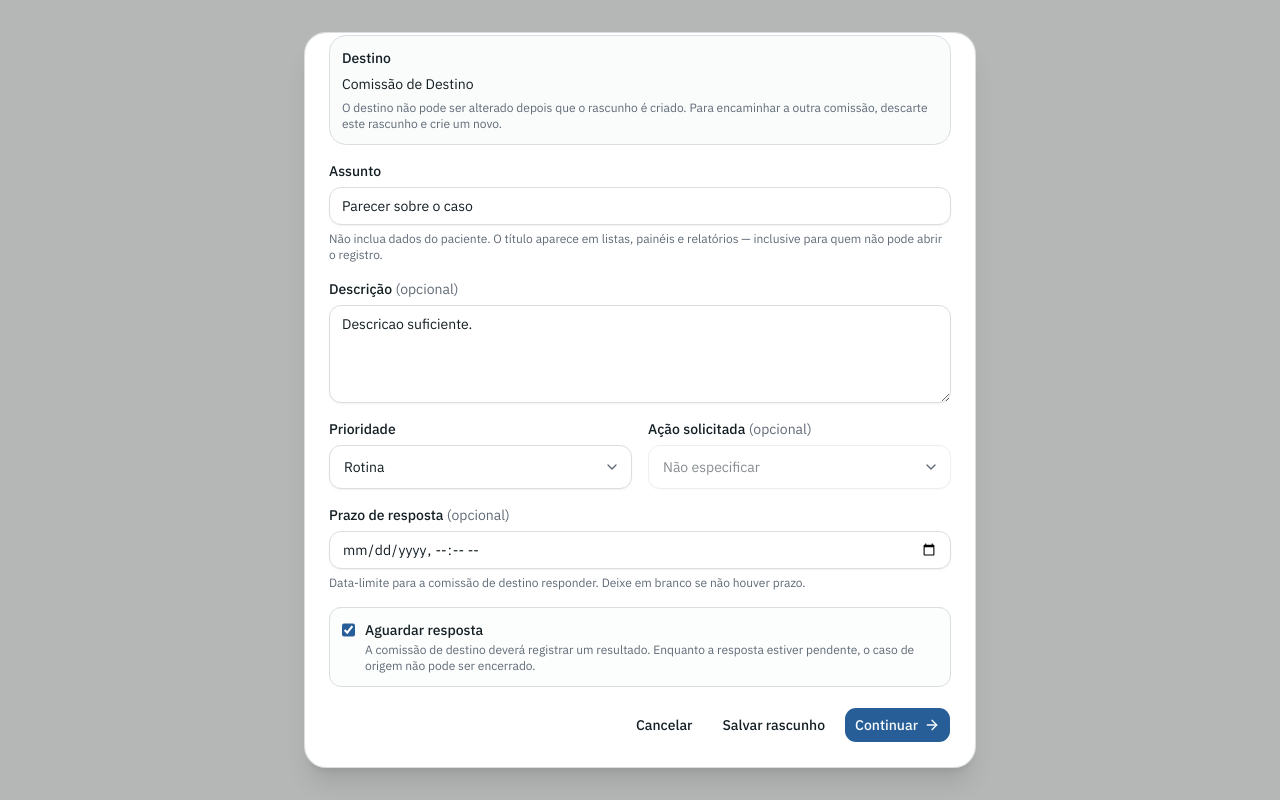
Scenario: referral wizard — the review step's advance MRN warning › 3 stays silent on a RESUMED draft whose prefill read FAILED
(page scrolled)
Click the button "Continuar": coordinates (898, 725) 844,707 -> 951,743
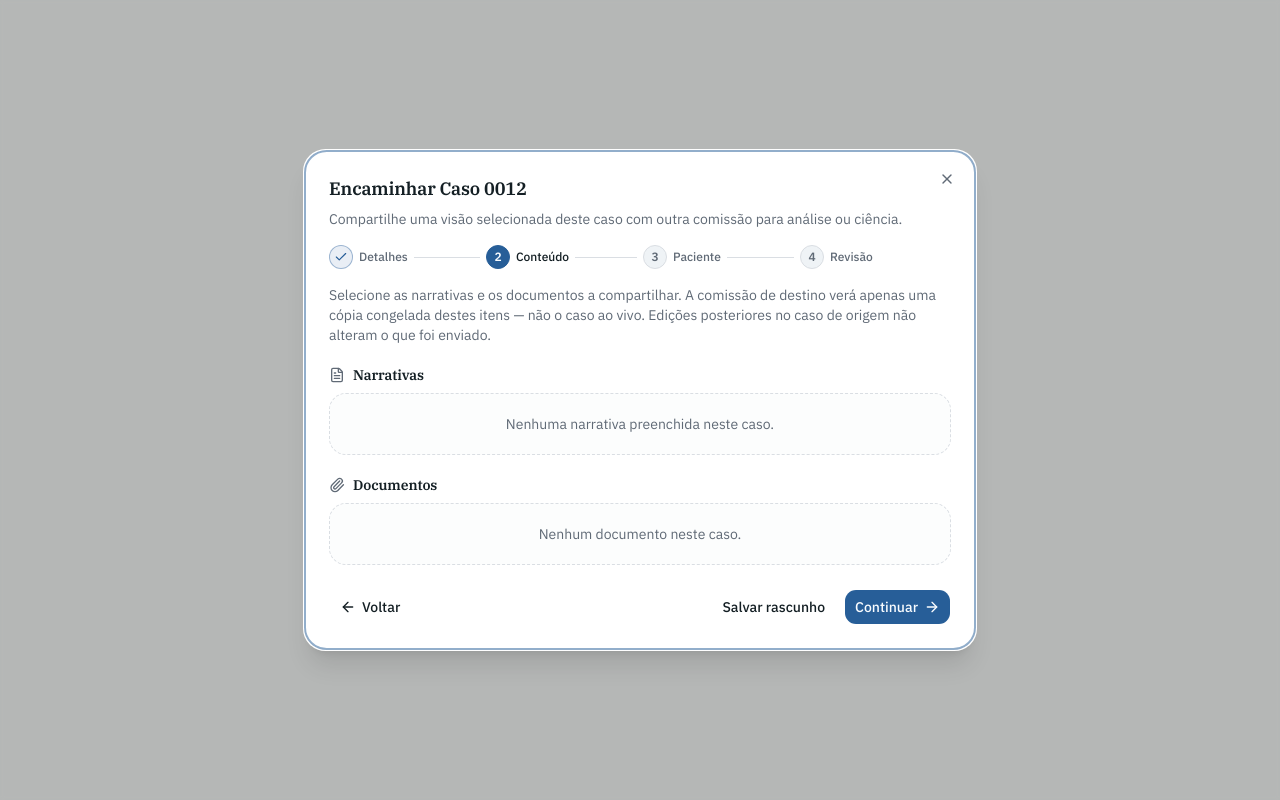
Click the button "Continuar": coordinates (898, 607) 844,589 -> 951,625
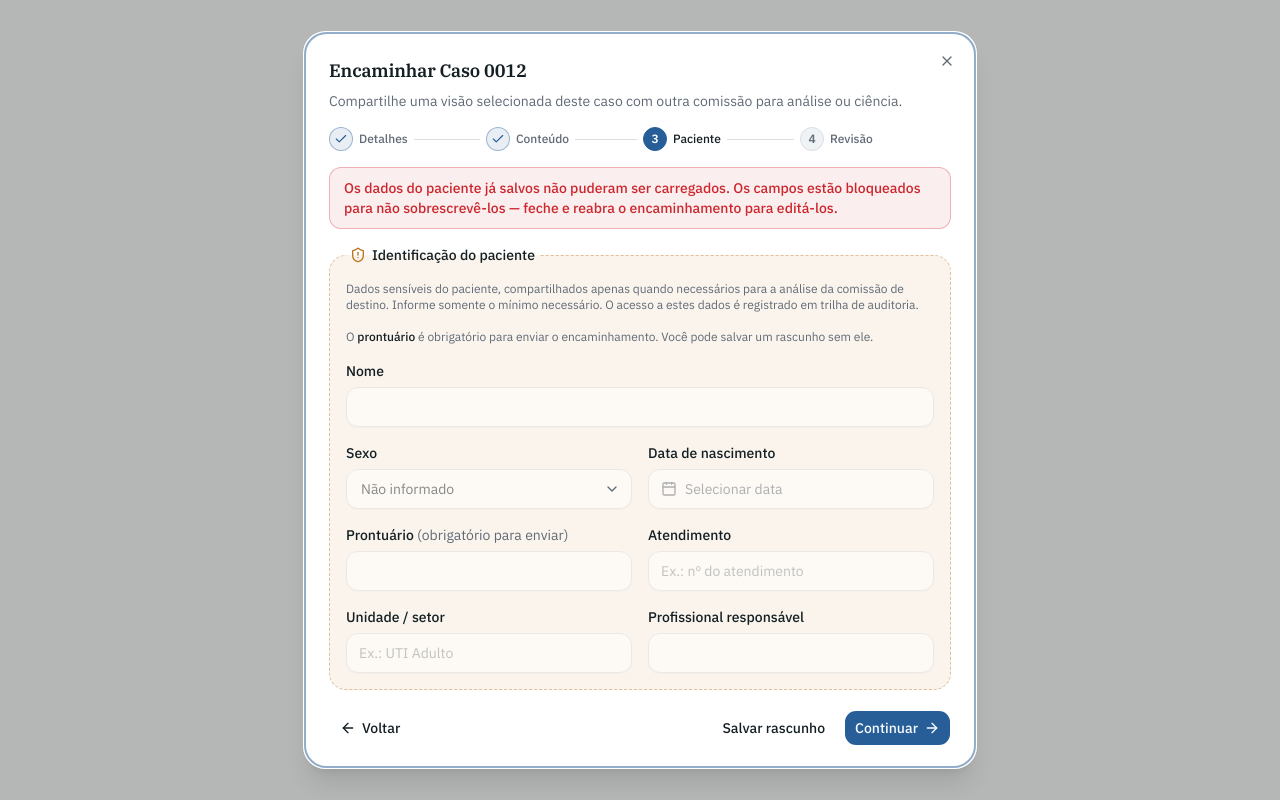
Click the button "Continuar": coordinates (898, 728) 844,710 -> 951,746
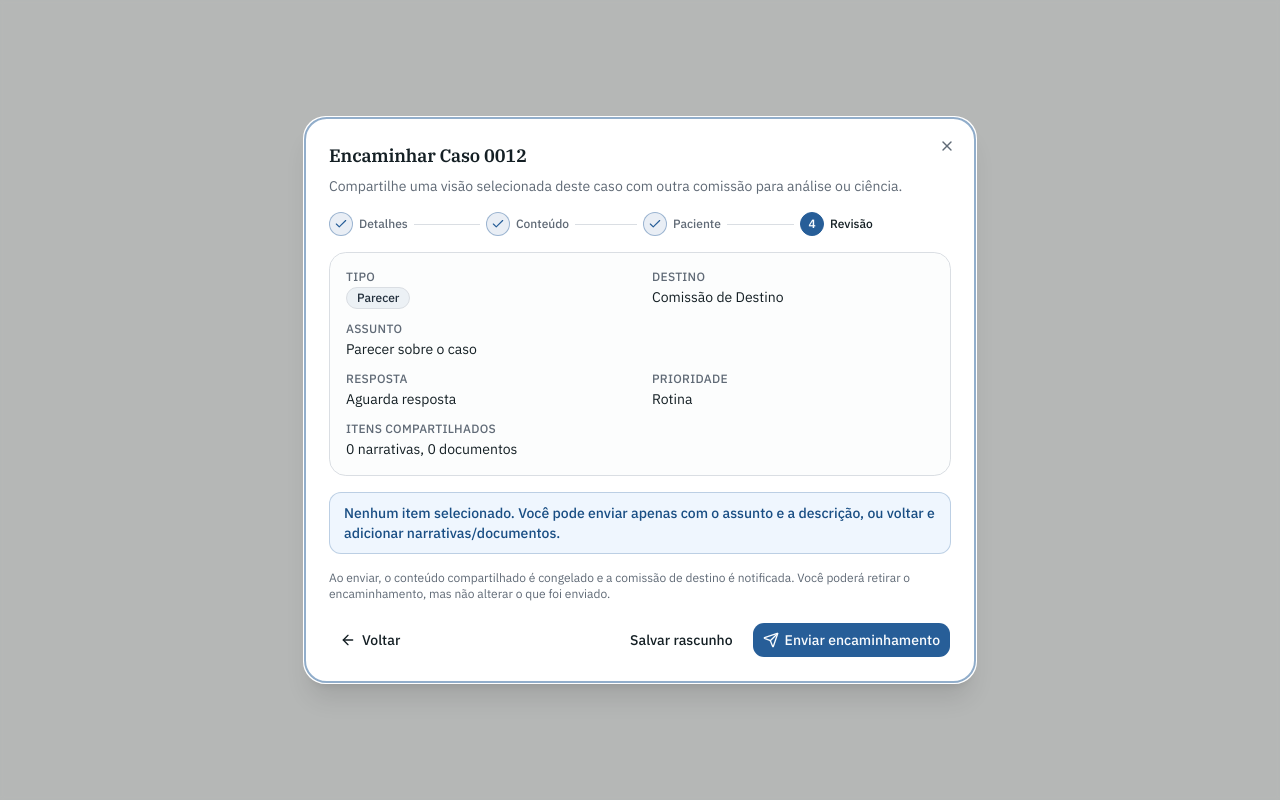
Expected: the button "Enviar encaminhamento" is shown, 752,622 -> 951,658
